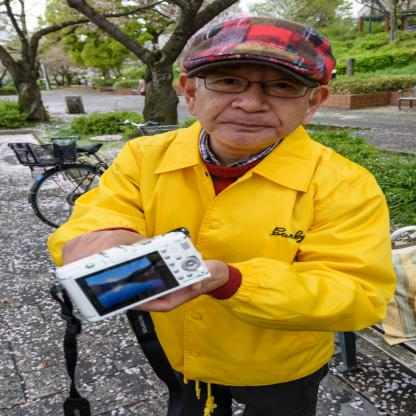Camera: (54, 231, 214, 322)
